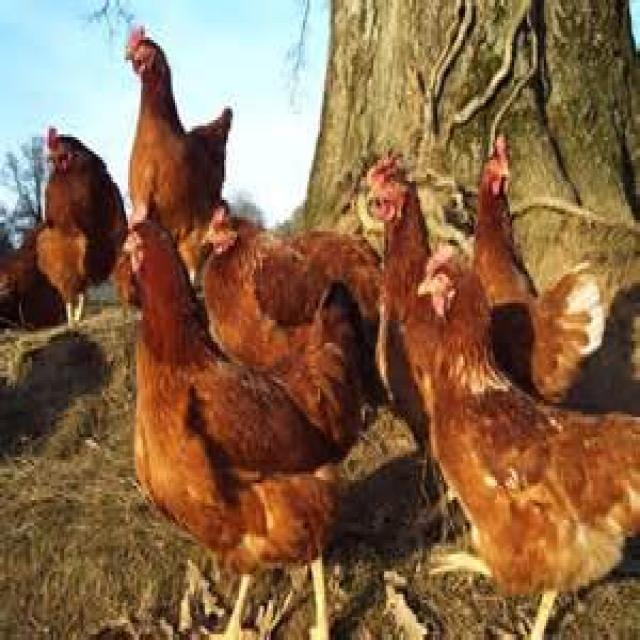hen: (125, 223, 361, 637), (404, 254, 640, 625), (474, 136, 608, 402), (126, 28, 232, 243), (36, 129, 128, 324)
